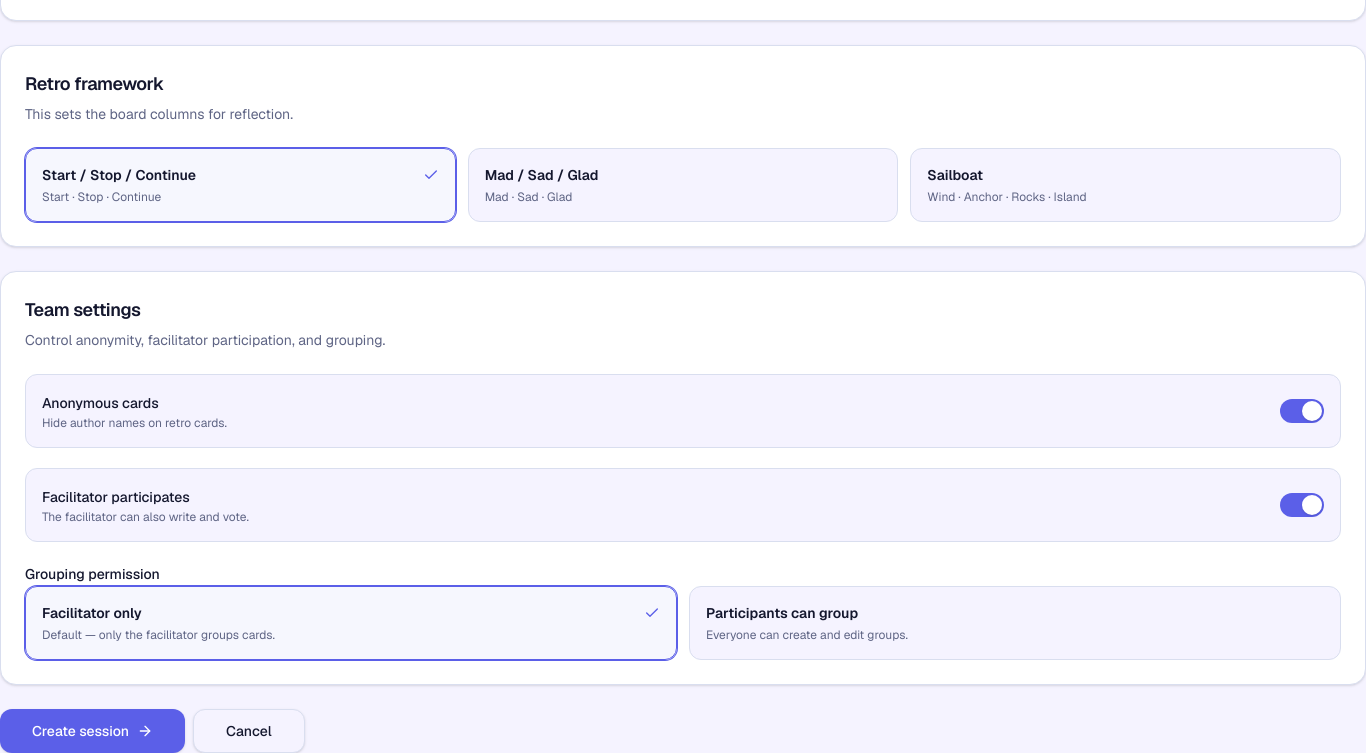
Test: SessionCreateForm validation › clears the error once the user types a name
The width and height of the screenshot is (1366, 753).
(page scrolled)
Click the button "Create session": (92, 731) [0,709,185,752]
(page scrolled)
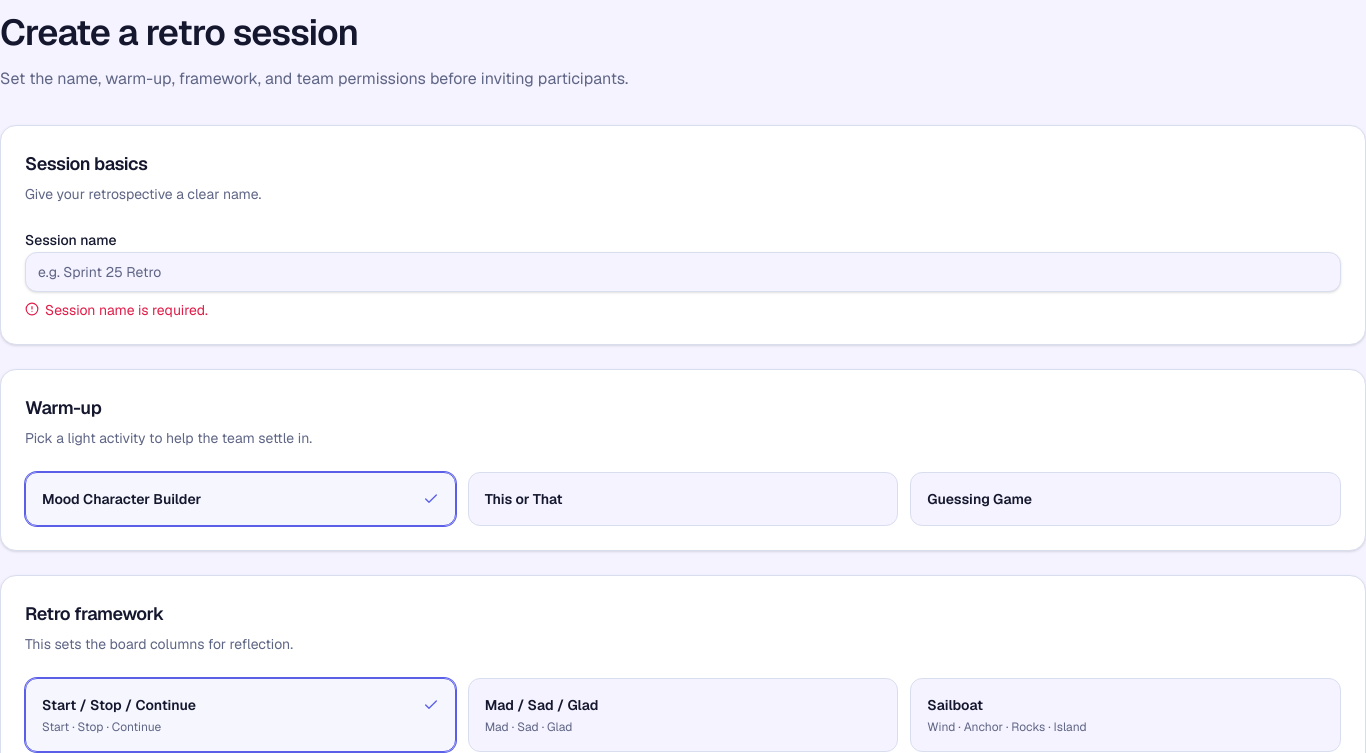
Now the text "Session name is required." is shown, box [45,300,208,320]
In the field labelled "Session name": (683, 272) [25,252,1341,292], type "Sprint 26 Retro"
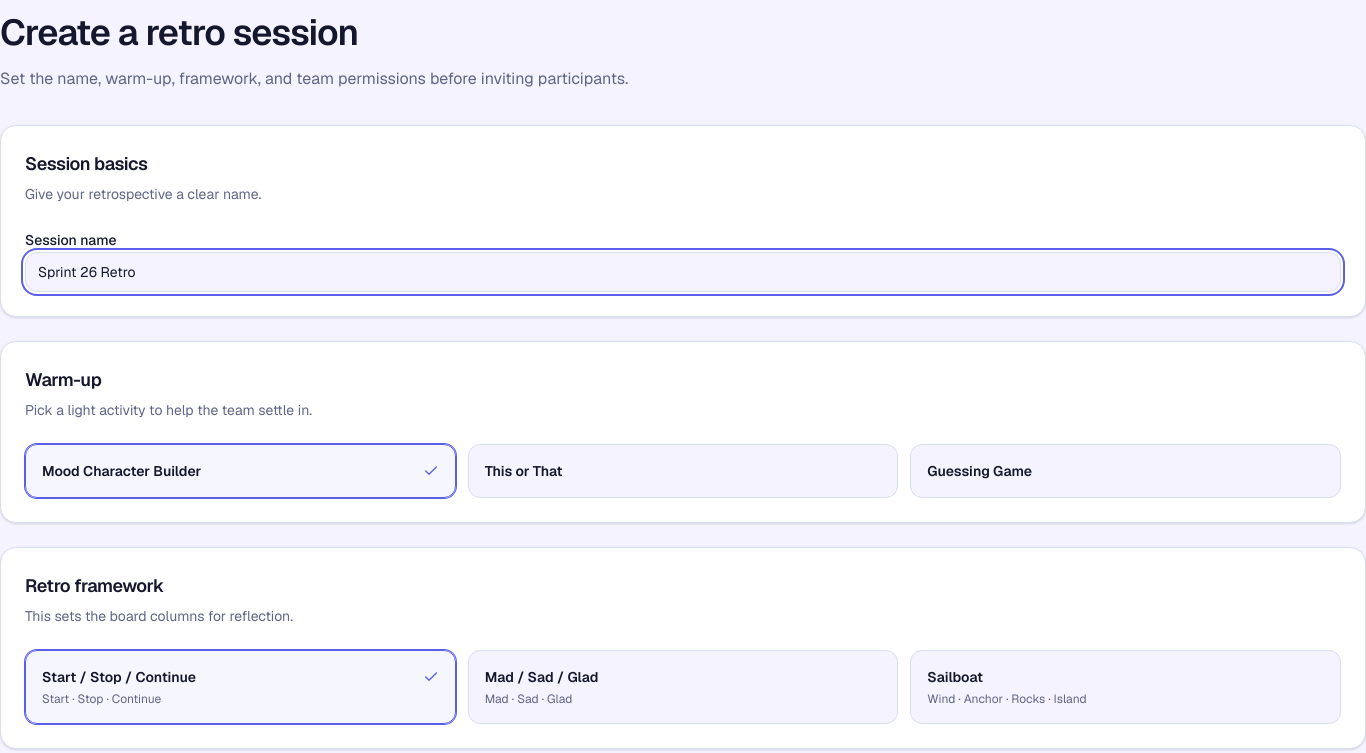
Now the text "Session name is required." is gone
